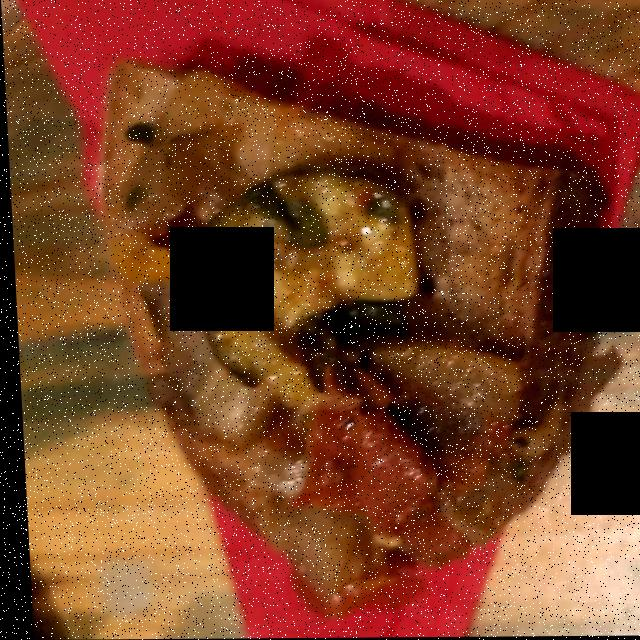bread-wholemeal: (99, 61, 597, 604)
mixed-vegetables: (106, 60, 525, 578)
